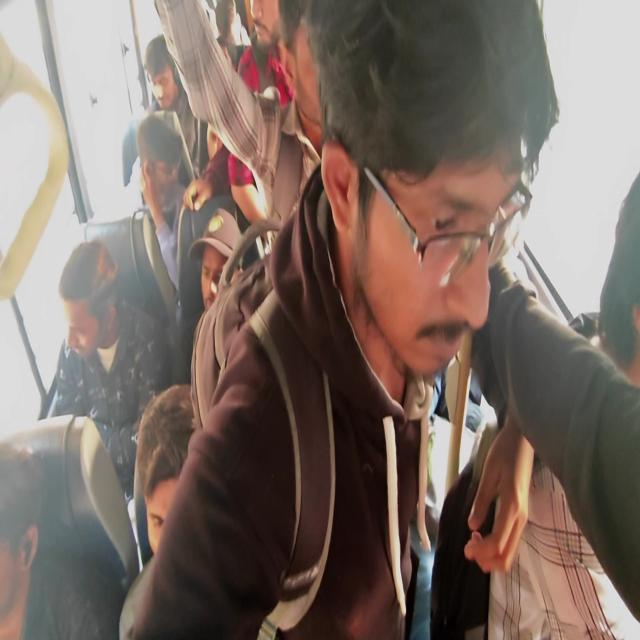person: (312, 12, 538, 367), (134, 405, 210, 582), (280, 3, 350, 157), (591, 166, 640, 372), (58, 243, 128, 362), (0, 434, 47, 608), (192, 224, 249, 330), (138, 130, 185, 209), (248, 0, 291, 57), (141, 42, 181, 103), (215, 1, 247, 64), (208, 121, 237, 182)
